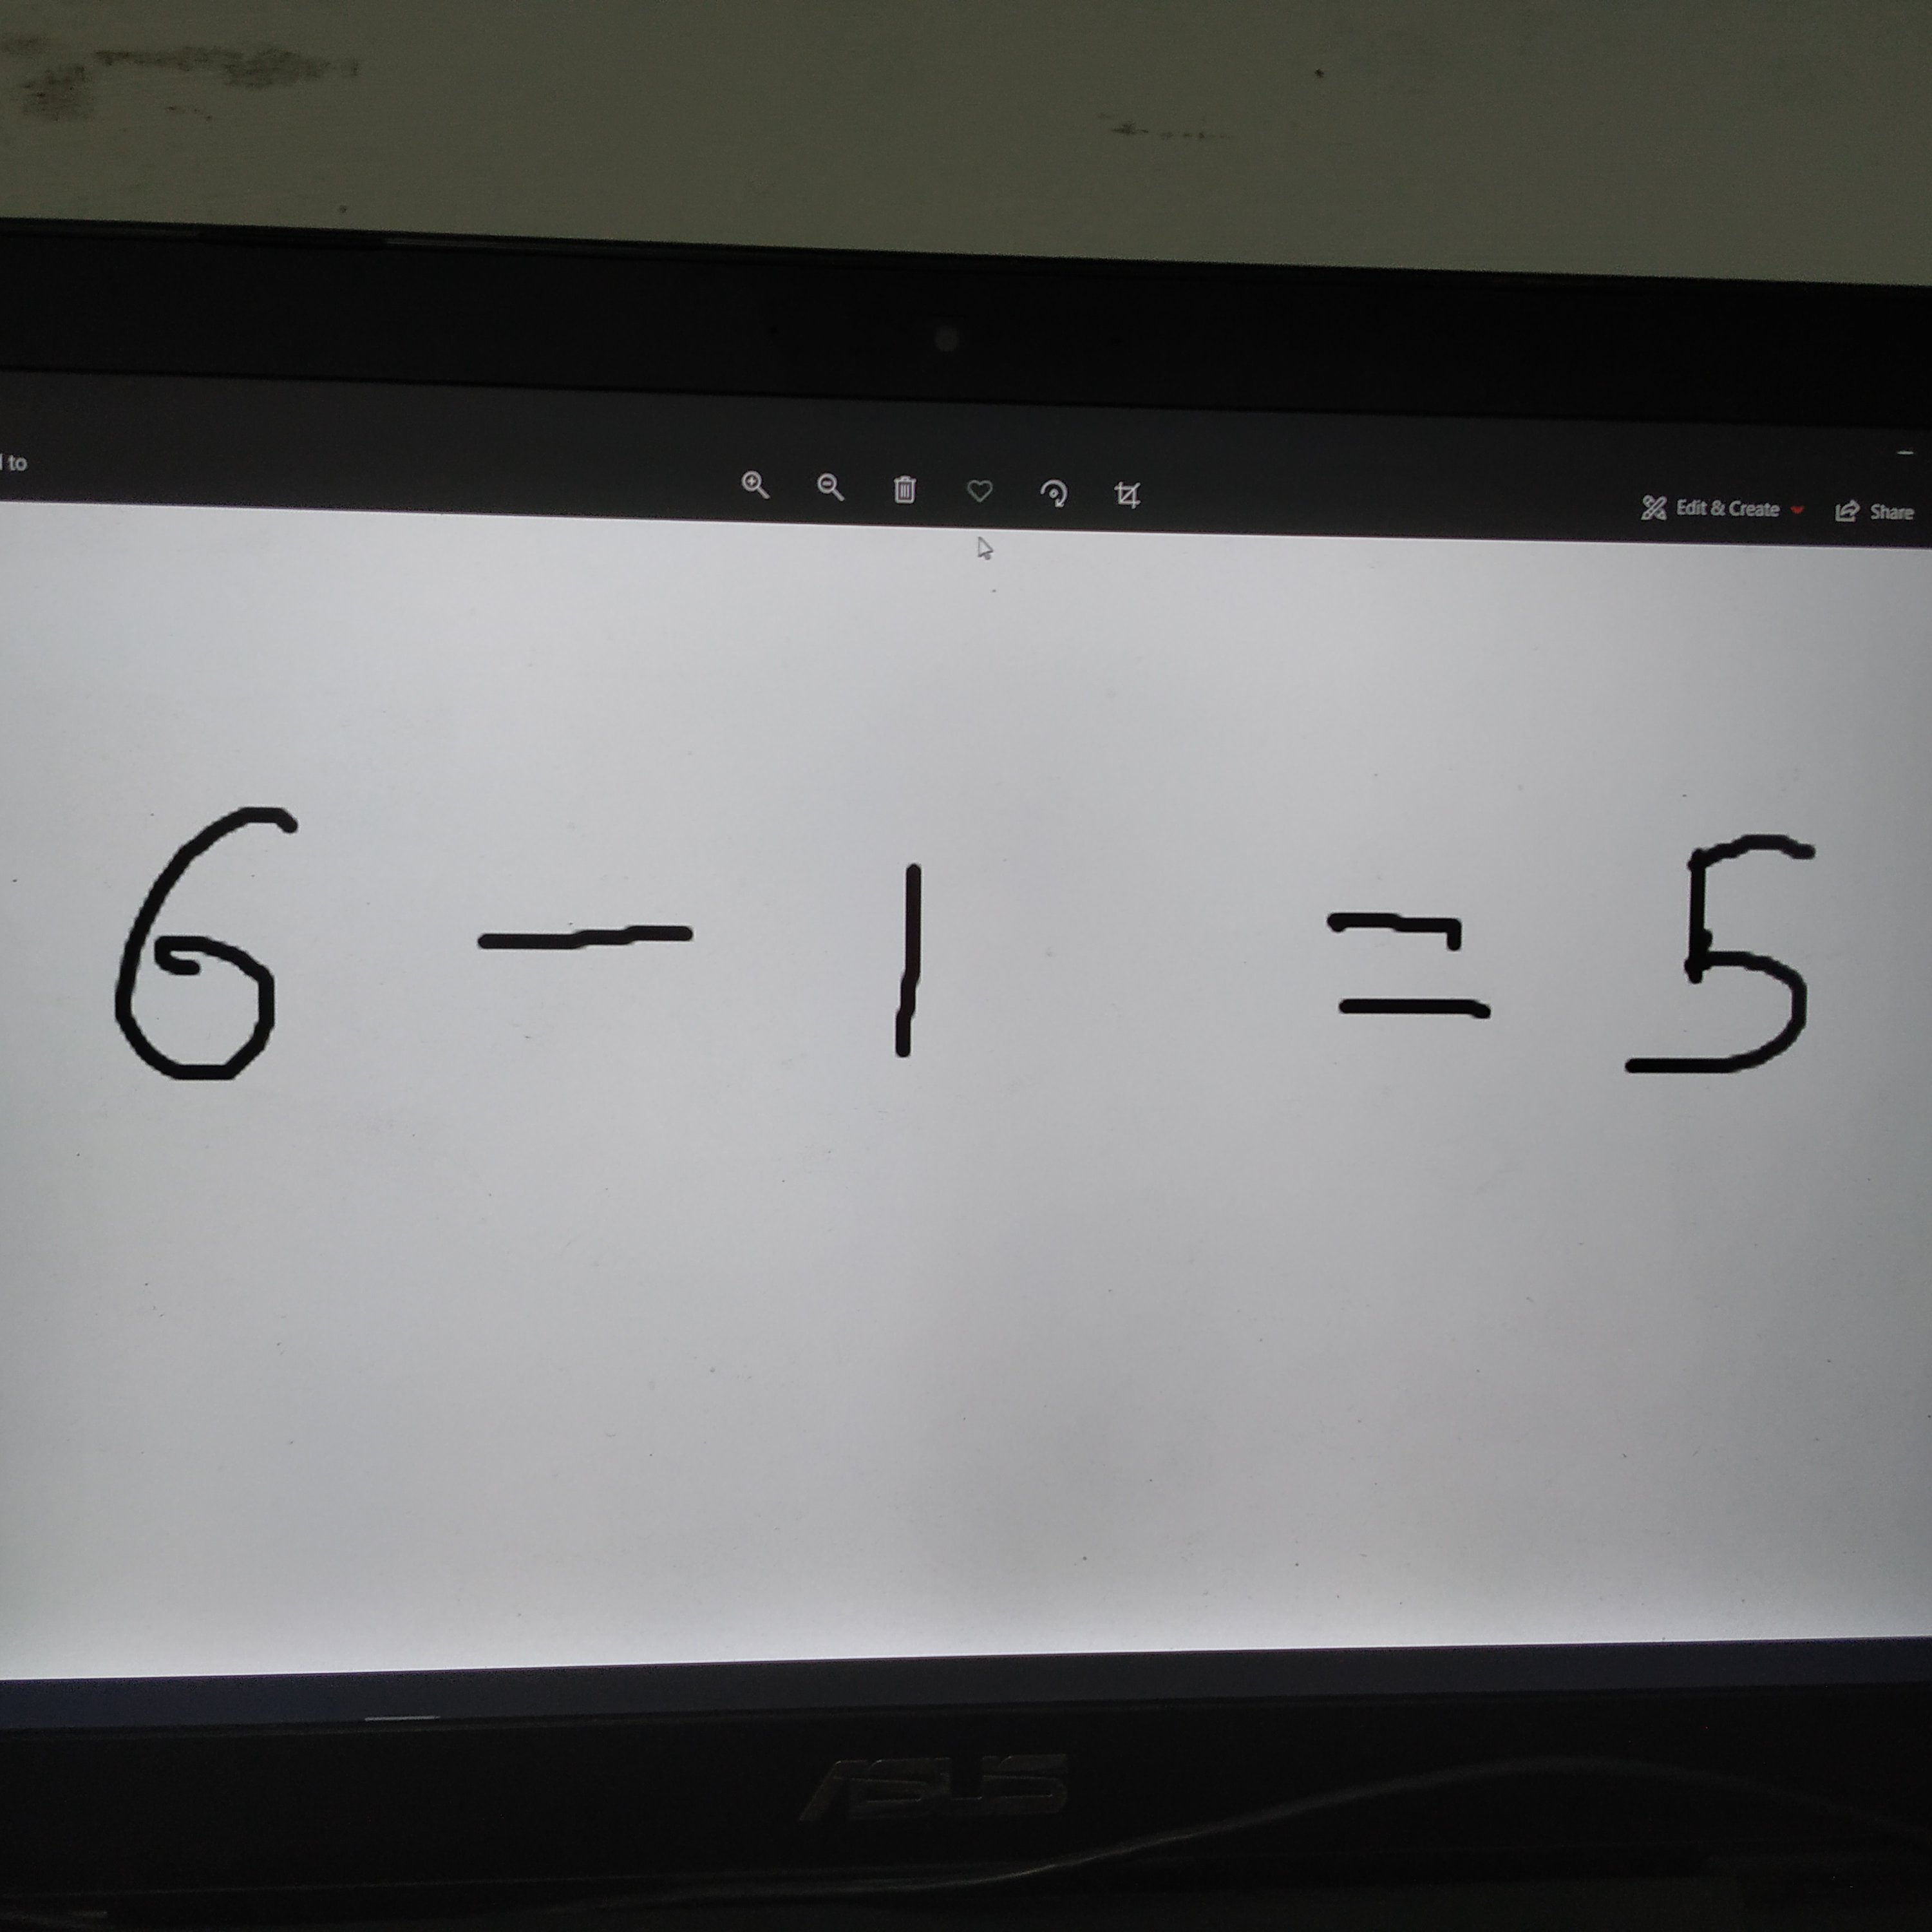equal: (1299, 899, 1519, 1034)
min: (441, 899, 736, 972)
num1: (860, 851, 977, 1072)
num5: (1615, 831, 1853, 1090)
num6: (77, 770, 379, 1117)
